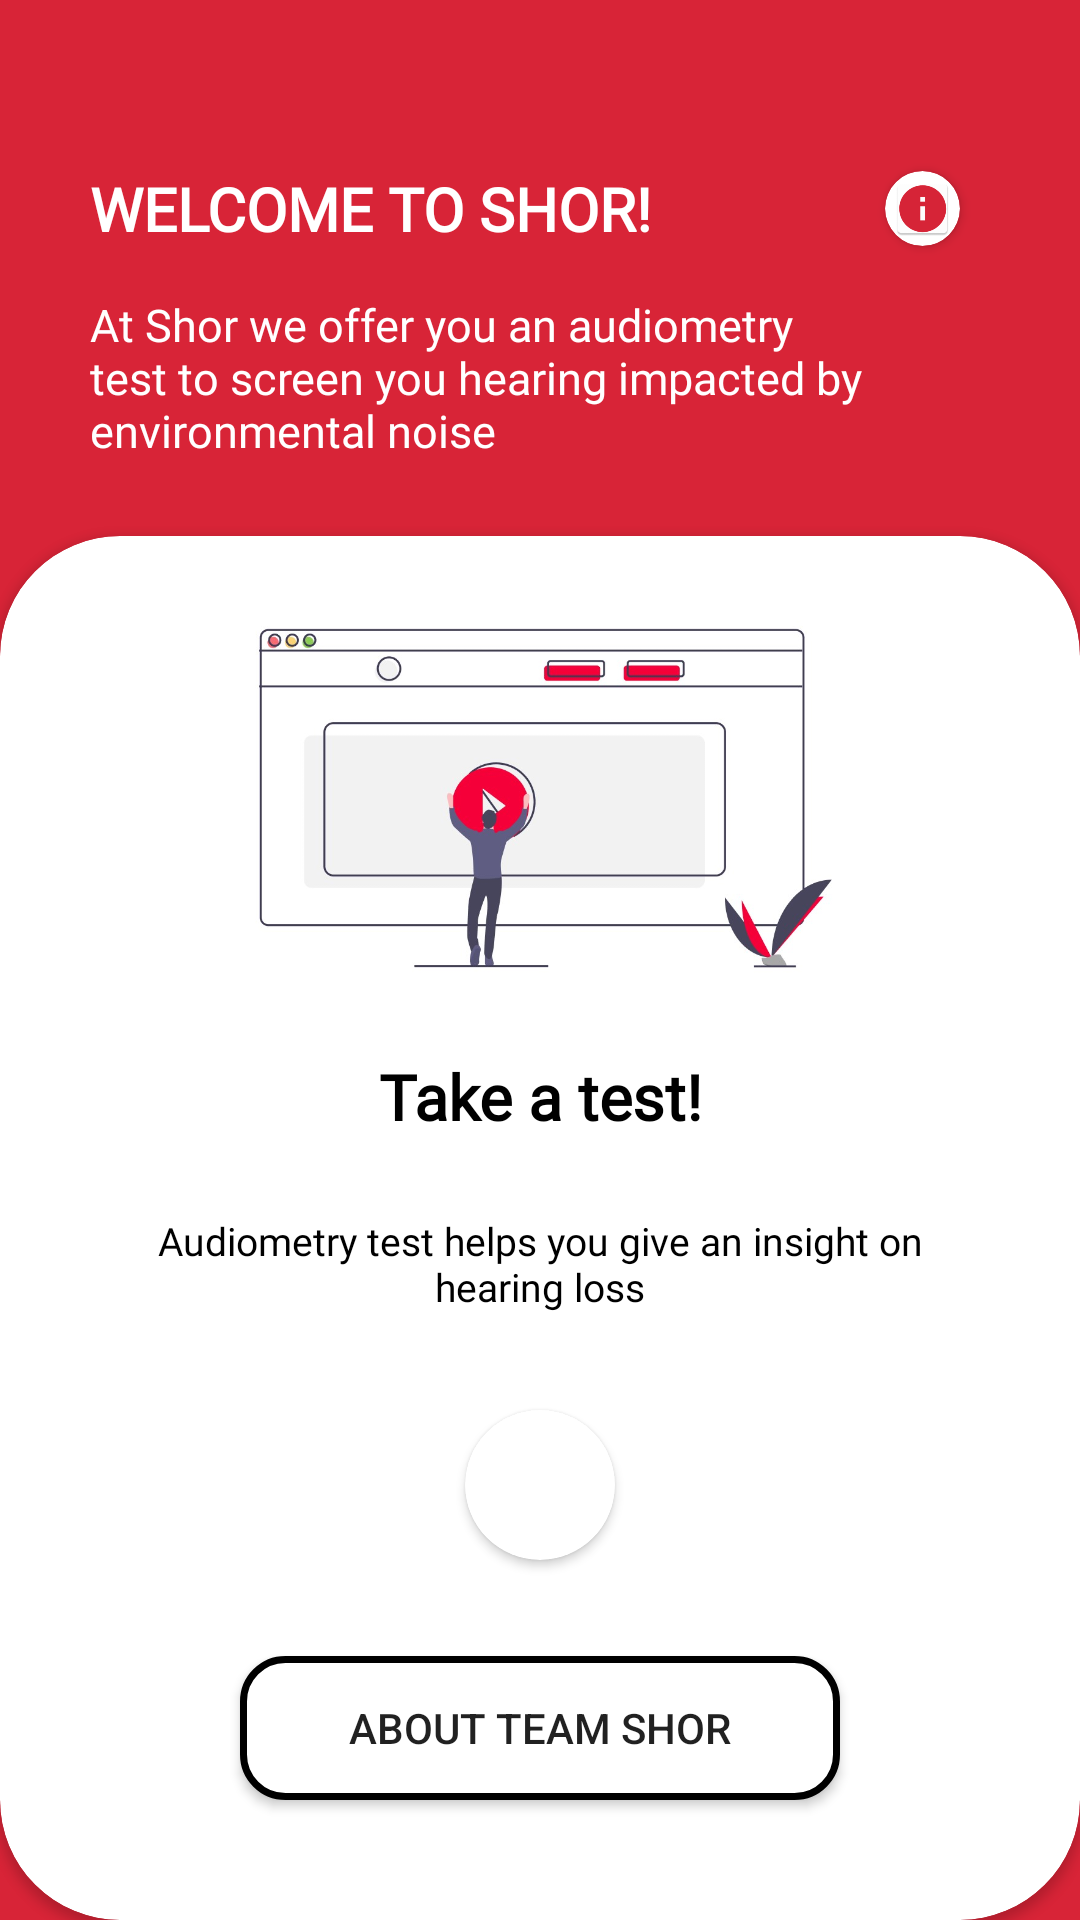

Icons on this 1080x1920 Android screen, each with the point to tap as (x,y):
info: (922,208)
